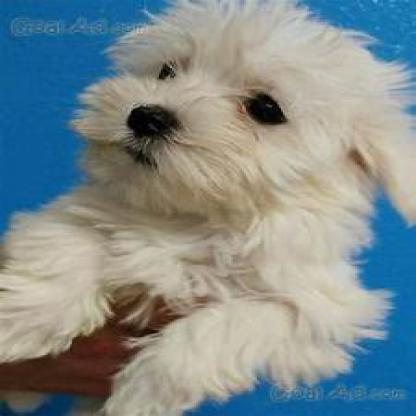dog: (2, 0, 412, 415)
